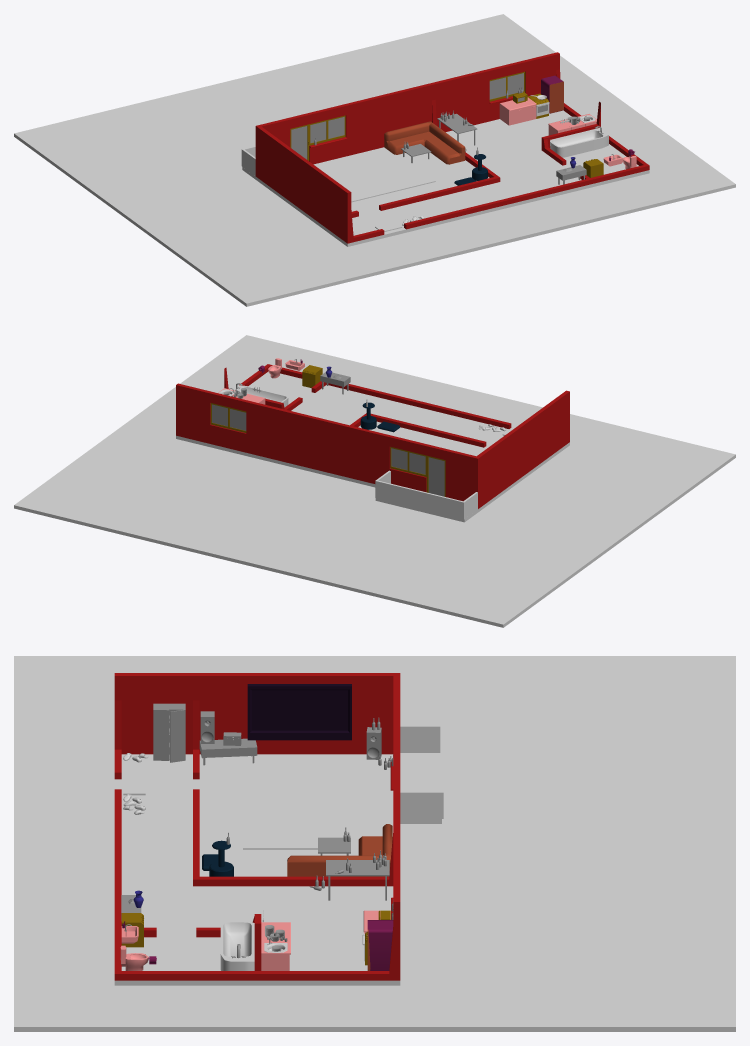
File: loka2end1.FBX
The picture shows the model from 3 angles, top to bottom: view 1: azimuth 30°, elevation 25°; view 2: azimuth 150°, elevation 25°; view 3: azimuth 270°, elevation 25°; orthographic projection. The views are drawn at different scales.
Parts seen in each view (by area): view 1: Box055, Box001, Box002, Box003, Box060, Box056, Box064, Box073, Box018, Box068; view 2: Box055, Box002, Box001, Box003, Box039, Box056, Box018, Object004; view 3: Box055, Box001, Box003, Box060, Box063, Box057, Box002, Box017, Box056, Box064, Box038, Box073 (+10 smaller).
Part boxes in pixels (bbox=[...]): Box055: bbox=[14, 14, 735, 306]; Box001: bbox=[256, 110, 649, 246]; Box002: bbox=[256, 52, 559, 164]; Box003: bbox=[255, 126, 351, 243]; Box060: bbox=[328, 156, 435, 202]; Box056: bbox=[351, 164, 649, 242]; Box064: bbox=[384, 121, 465, 164]; Box073: bbox=[550, 128, 608, 157]; Box018: bbox=[351, 177, 496, 217]; Box068: bbox=[499, 100, 522, 125]; Box055: bbox=[14, 335, 735, 627]; Box002: bbox=[176, 383, 477, 501]; Box001: bbox=[176, 371, 569, 511]; Box003: bbox=[476, 390, 569, 508]; Box039: bbox=[375, 480, 465, 519]; Box056: bbox=[266, 364, 511, 428]; Box018: bbox=[370, 413, 486, 447]; Object004: bbox=[428, 457, 444, 496]; Box055: bbox=[14, 656, 735, 1031]; Box001: bbox=[114, 754, 400, 985]; Box003: bbox=[114, 673, 399, 754]; Box060: bbox=[243, 778, 346, 849]; Box063: bbox=[247, 684, 351, 740]; Box057: bbox=[121, 927, 393, 980]; Box002: bbox=[390, 673, 400, 980]; Box017: bbox=[193, 833, 393, 886]; Box056: bbox=[114, 700, 121, 980]; Box064: bbox=[287, 824, 392, 876]; Box038: bbox=[400, 753, 441, 823]; Box073: bbox=[220, 921, 254, 970].
Size of the model in its own units: 394 by 45.89 by 324.
